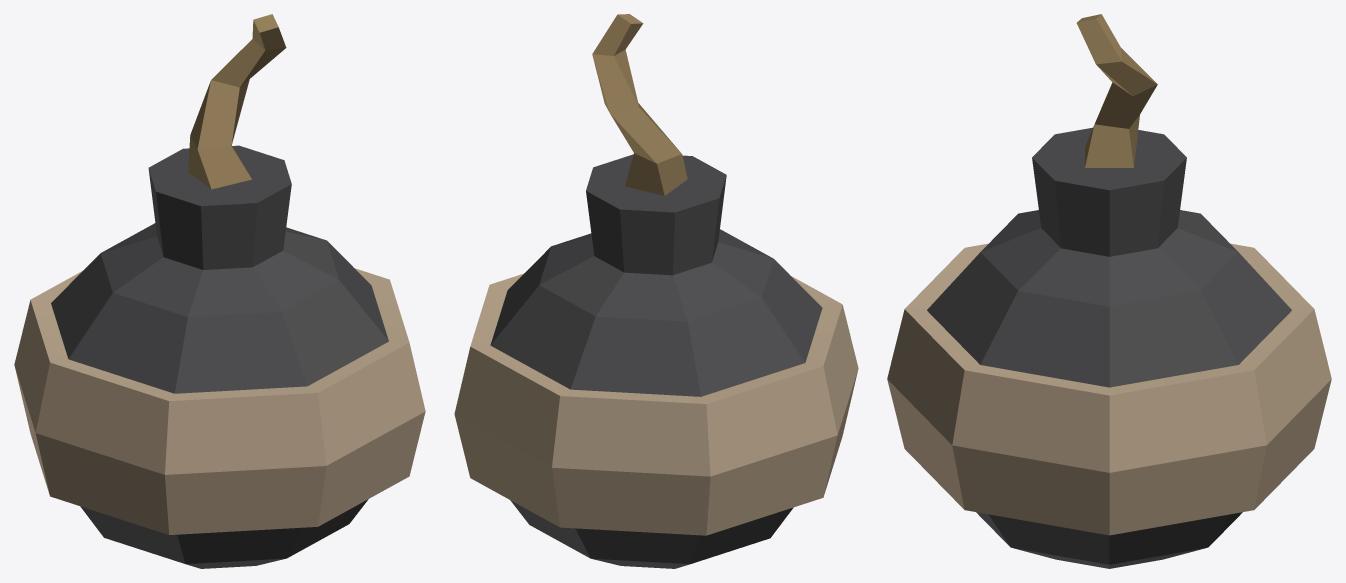
The model's file is SM_Item_Pomb_Attachment_01.glb.
3 views of the same model, side by side, from view 1: azimuth 30°, elevation 25°; view 2: azimuth 150°, elevation 25°; view 3: azimuth 270°, elevation 25° (orthographic). The views are drawn at different scales.
Parts seen in each view (by area): view 1: SM_Item_Pomb_Attachment_01; view 2: SM_Item_Pomb_Attachment_01; view 3: SM_Item_Pomb_Attachment_01.
Part boxes in pixels (bbox=[...]): SM_Item_Pomb_Attachment_01: bbox=[14, 14, 425, 568]; SM_Item_Pomb_Attachment_01: bbox=[454, 14, 858, 568]; SM_Item_Pomb_Attachment_01: bbox=[887, 14, 1331, 568].
Bounding box in the file's own units: 0.00156 × 0.0021 × 0.00156.
1 material, 1 textured.
